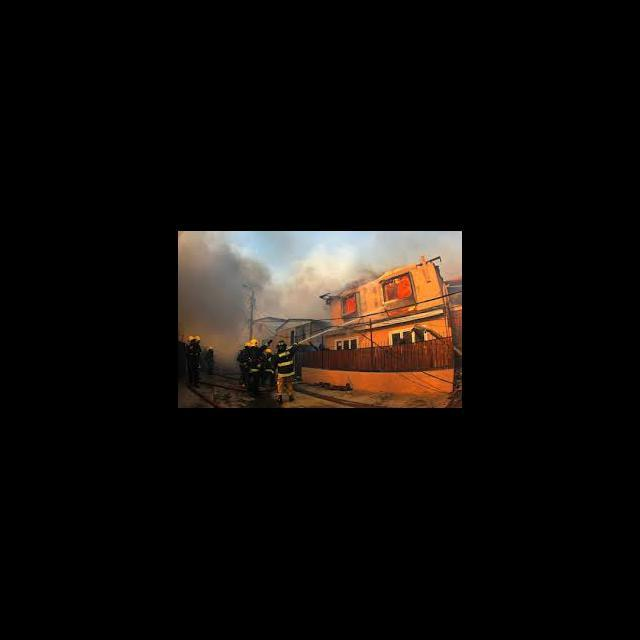Fire: (379, 278, 413, 300), (343, 298, 357, 314)
Smoke: (178, 232, 326, 336)
